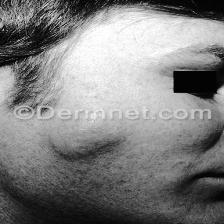Benign Marking or Mole: (50, 118, 131, 151)
